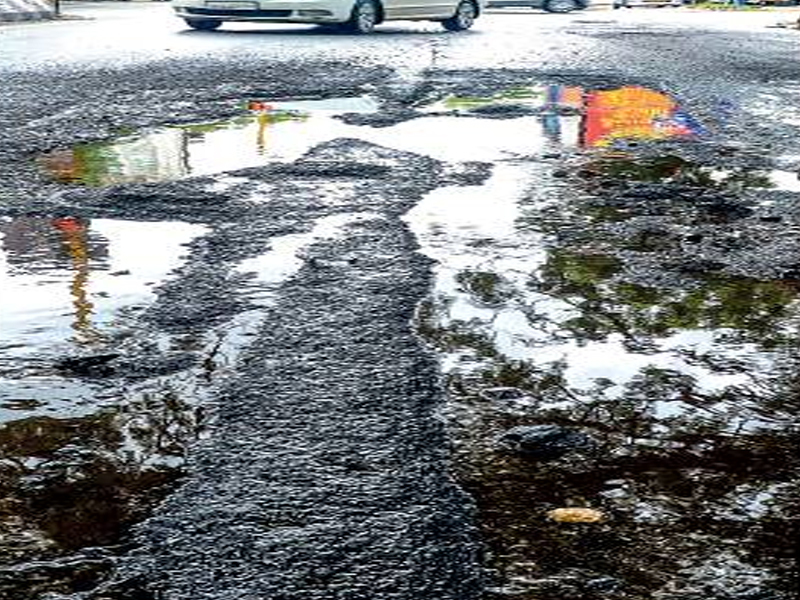pothole: (396, 178, 780, 420), (104, 56, 393, 188), (0, 199, 238, 350), (367, 78, 673, 167)
